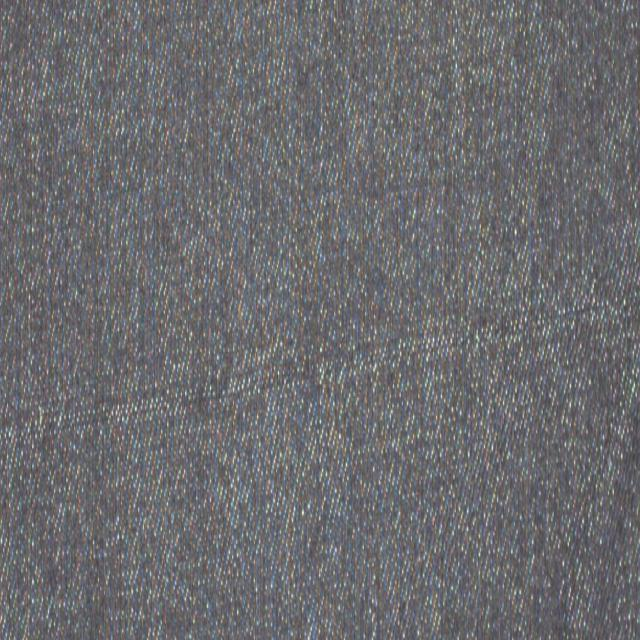Line: (0, 290, 640, 448)
